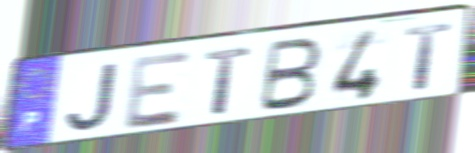4: (329, 26, 383, 103)
B: (256, 35, 325, 114)
E: (123, 48, 194, 132)
J: (63, 60, 121, 134)
T: (202, 44, 254, 118), (404, 20, 455, 93)
